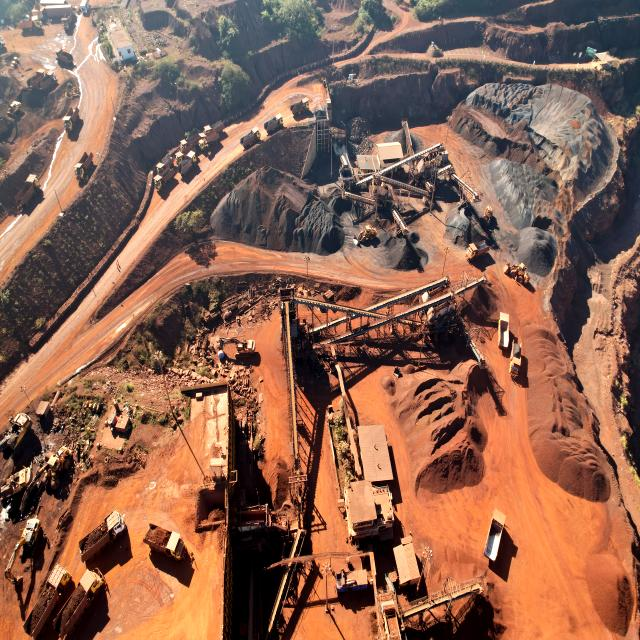Dumper truck: (59, 563, 108, 640), (29, 559, 72, 636), (81, 516, 126, 557), (144, 532, 186, 562), (484, 511, 504, 562), (18, 173, 40, 203), (466, 240, 488, 264), (55, 44, 73, 68), (75, 156, 93, 180), (510, 339, 520, 381), (40, 71, 57, 95), (63, 106, 80, 130), (498, 313, 509, 349), (180, 152, 198, 173), (155, 168, 173, 189), (177, 140, 195, 160), (199, 131, 216, 152), (242, 128, 260, 147), (266, 115, 284, 134), (157, 157, 174, 177), (20, 17, 42, 32), (292, 98, 310, 116), (61, 9, 74, 32), (202, 126, 213, 139)
Excavator: (0, 516, 41, 586), (0, 410, 33, 458), (0, 466, 33, 504), (217, 336, 256, 360), (0, 97, 21, 118)
person: (44, 533, 49, 543), (514, 276, 518, 282), (458, 146, 462, 152), (116, 262, 118, 268), (116, 259, 118, 265)
